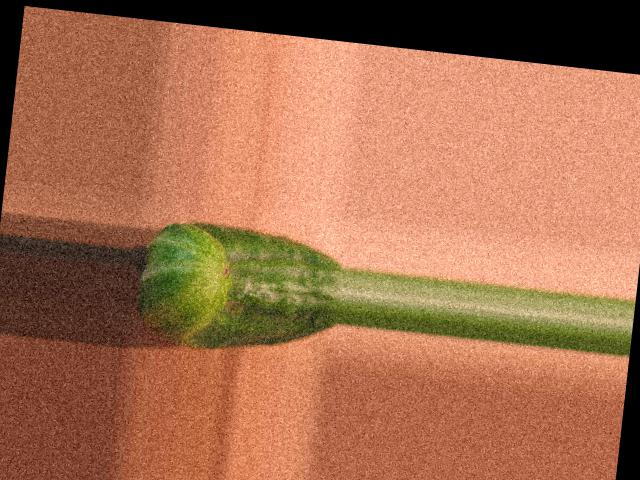cucumber: (134, 215, 346, 362)
